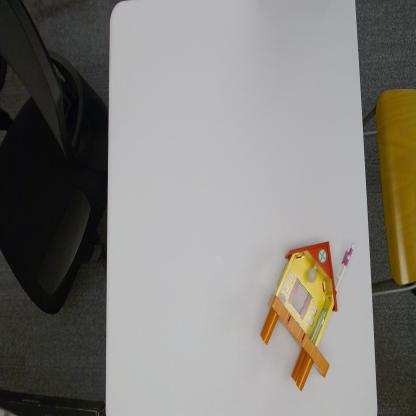House: (263, 240, 353, 391)
